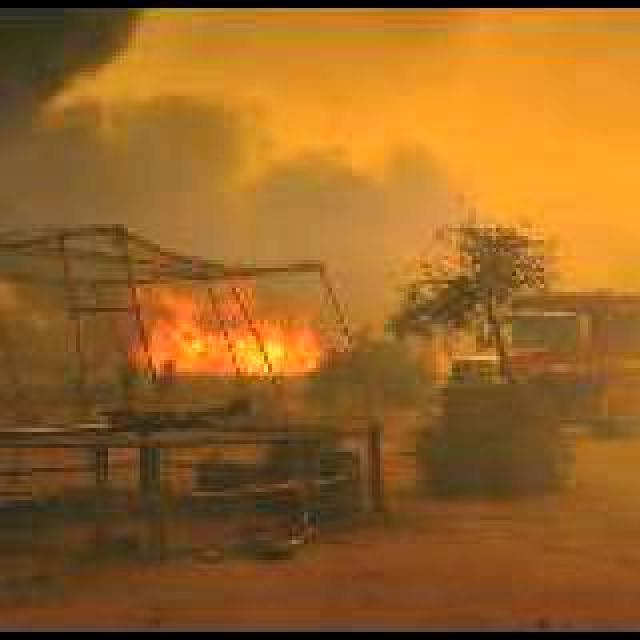smoke: (0, 0, 464, 290)
